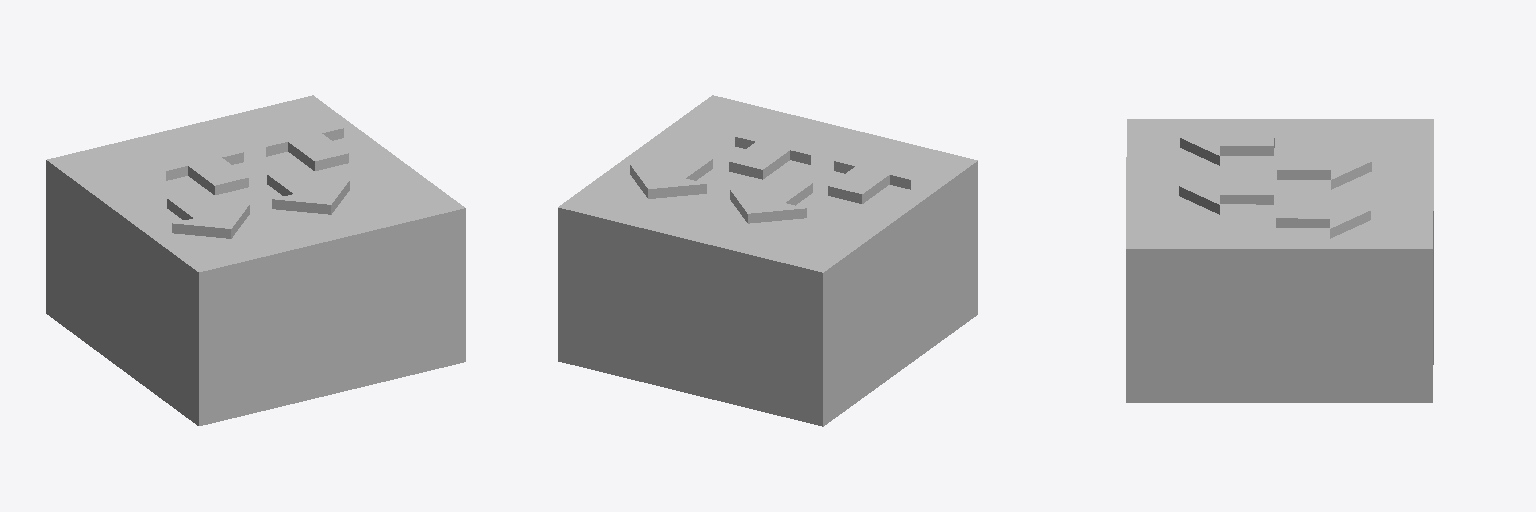
File: switch.obj
3 renders of one model, left to right at view 1: azimuth 30°, elevation 25°; view 2: azimuth 150°, elevation 25°; view 3: azimuth 270°, elevation 25°, orthographic.
Parts seen in each view (by area): view 1: switch; view 2: switch; view 3: switch.
Boxes of the visible parts, <box> form: switch: <box>46,95,465,425</box>; switch: <box>558,95,977,426</box>; switch: <box>1126,119,1433,402</box>.
Size of the model in its own units: 21.07 by 12.33 by 21.07.